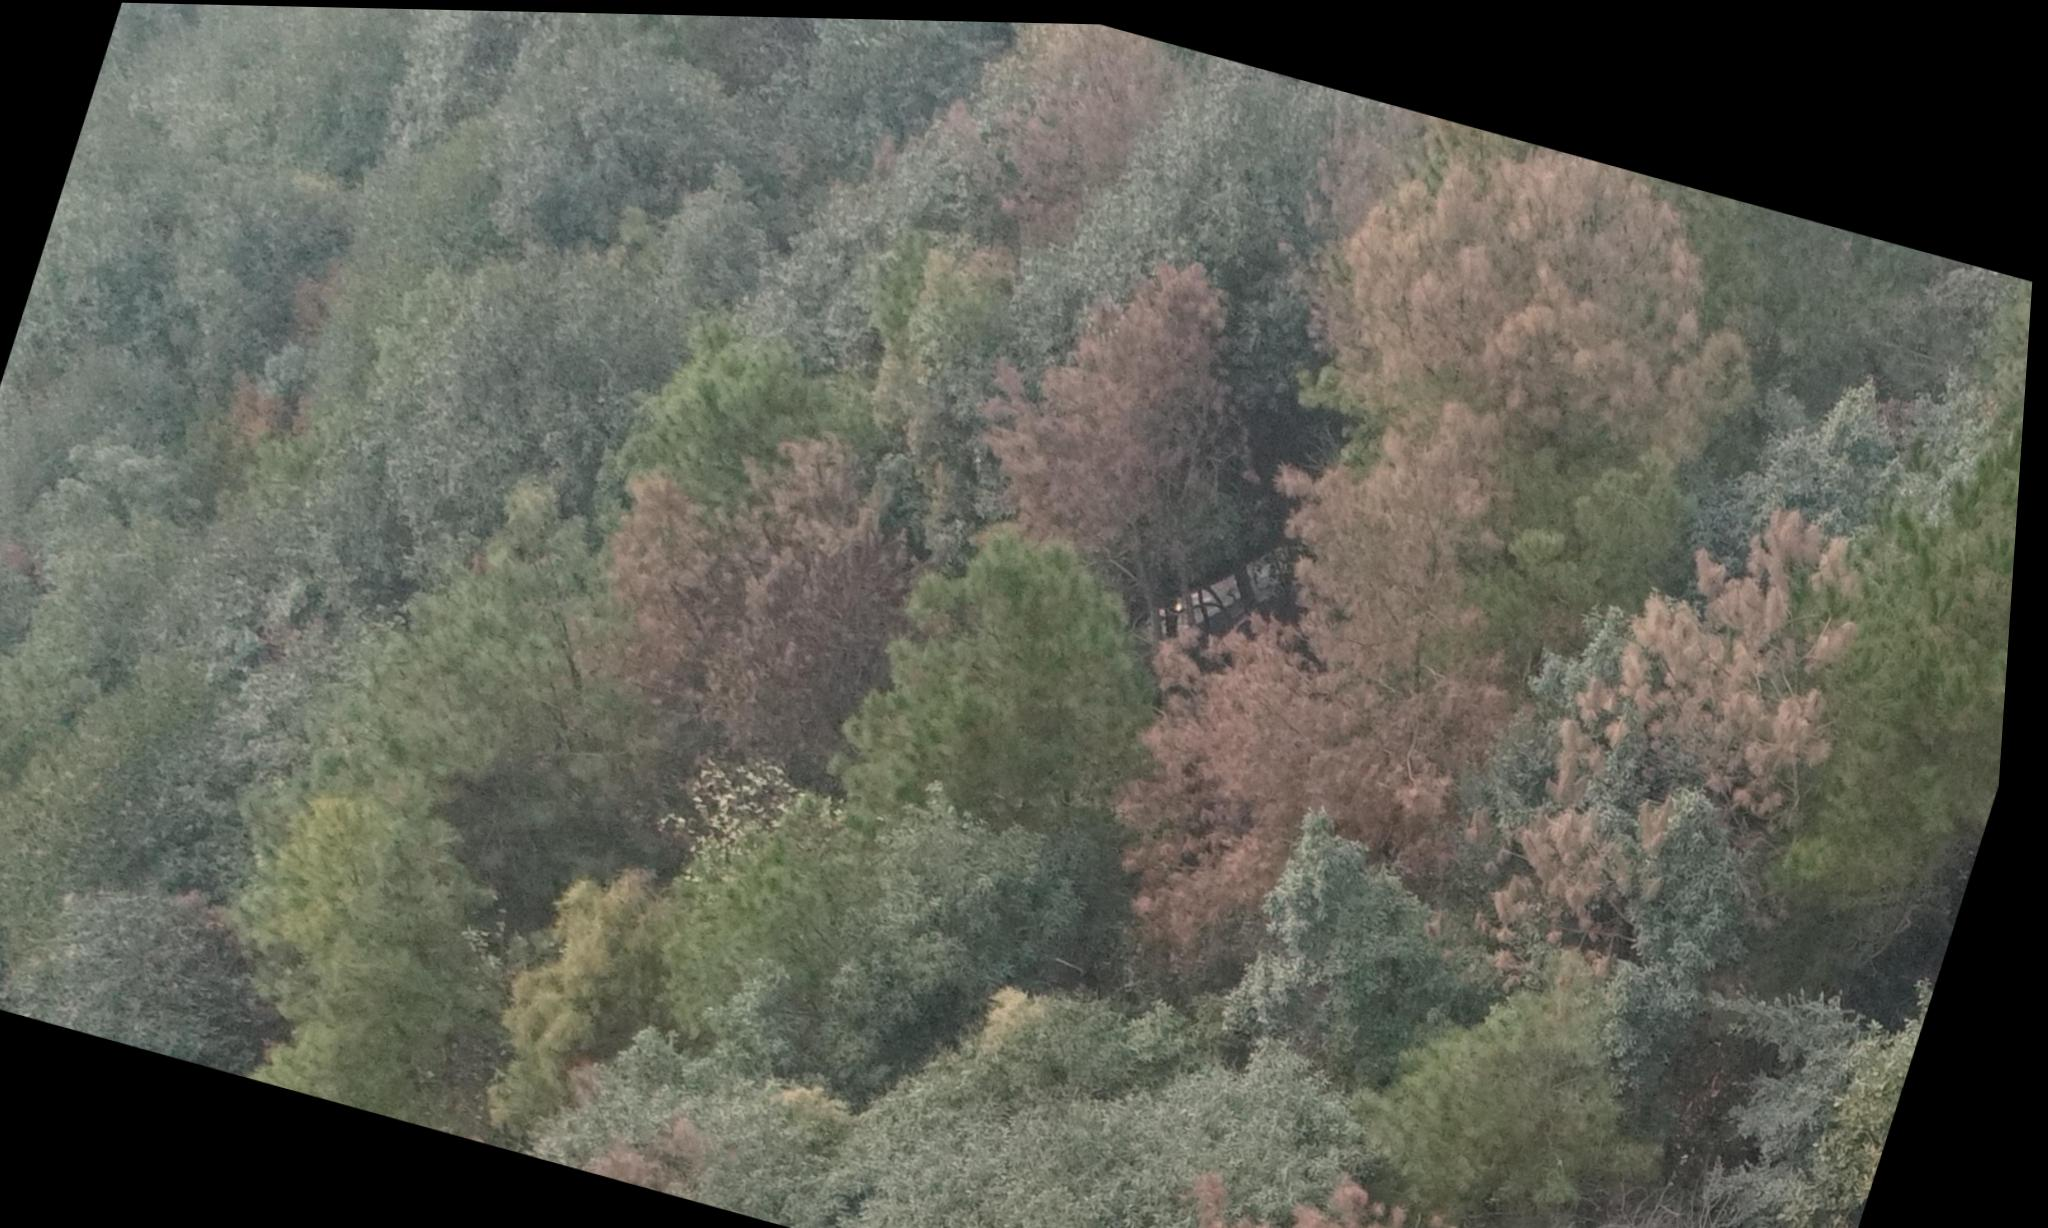heavy: (1283, 96, 1902, 543), (1061, 539, 1554, 1013), (521, 416, 1067, 842), (1495, 512, 1915, 990), (930, 177, 1280, 533), (1133, 1117, 1636, 1228)
